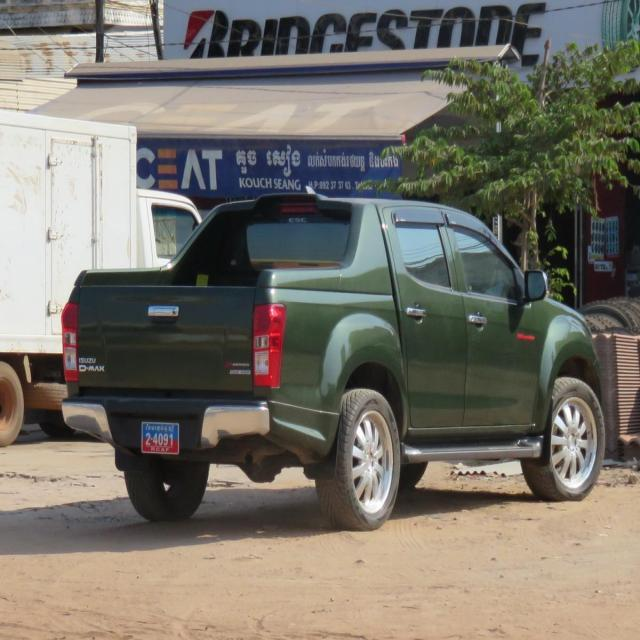RCAF: (146, 424, 168, 434)
